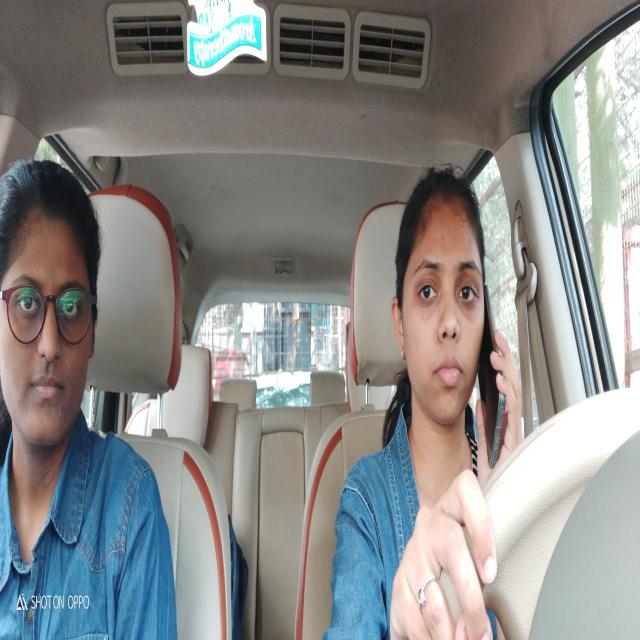mobile: (481, 282, 507, 473)
person: (0, 150, 101, 451), (390, 173, 484, 417)
